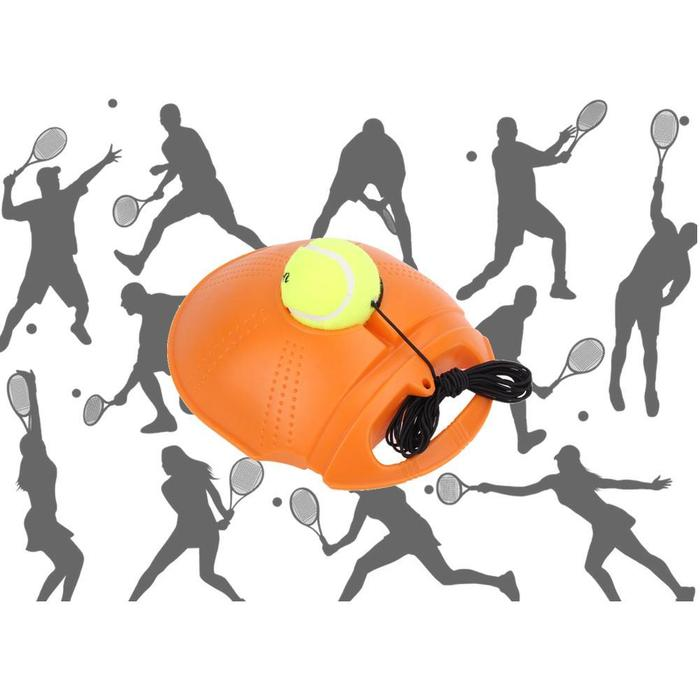tennis_ball: (282, 237, 388, 335)
